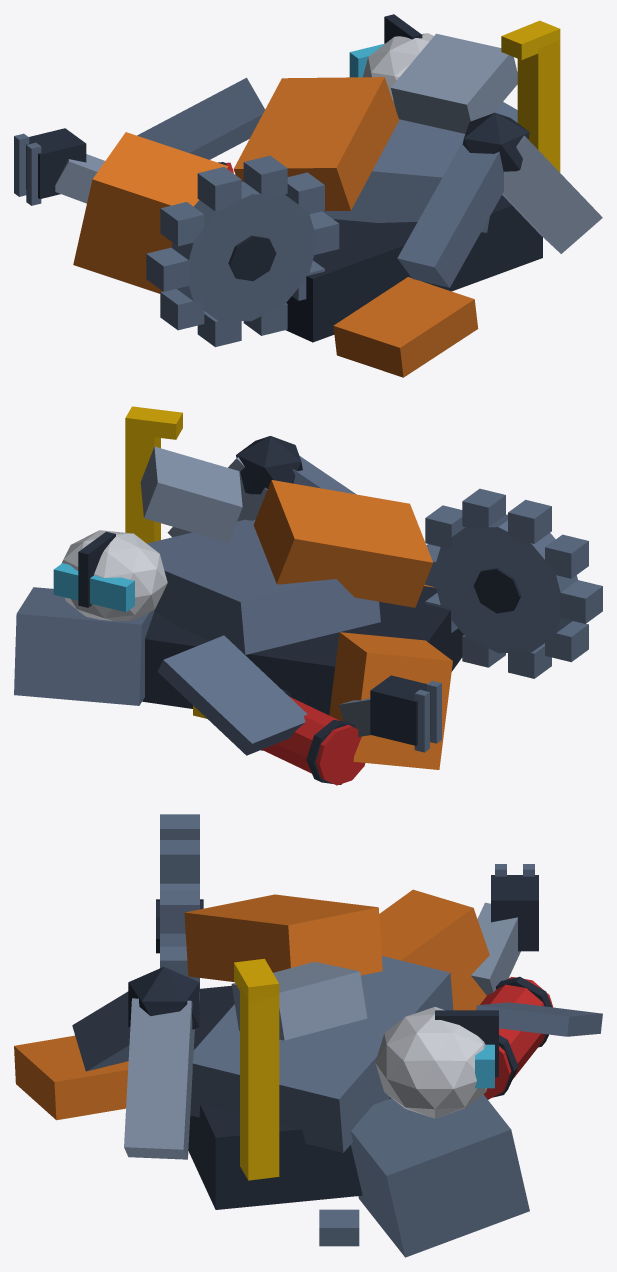
Rendered from Decor_MechaHangar_Scrap.fbx.
3 renders of one model, top to bottom at view 1: azimuth 30°, elevation 25°; view 2: azimuth 150°, elevation 25°; view 3: azimuth 270°, elevation 25°, orthographic. The views are drawn at different scales.
Parts seen in each view (by area): view 1: Scrap_Body; view 2: Scrap_Body; view 3: Scrap_Body.
Part boxes in pixels (left/top/right/bottom): Scrap_Body: left=14, top=14, right=602, bottom=377; Scrap_Body: left=14, top=406, right=602, bottom=785; Scrap_Body: left=14, top=814, right=602, bottom=1257.
Bounding box in the file's own units: 13.78 × 6.3 × 13.03.
